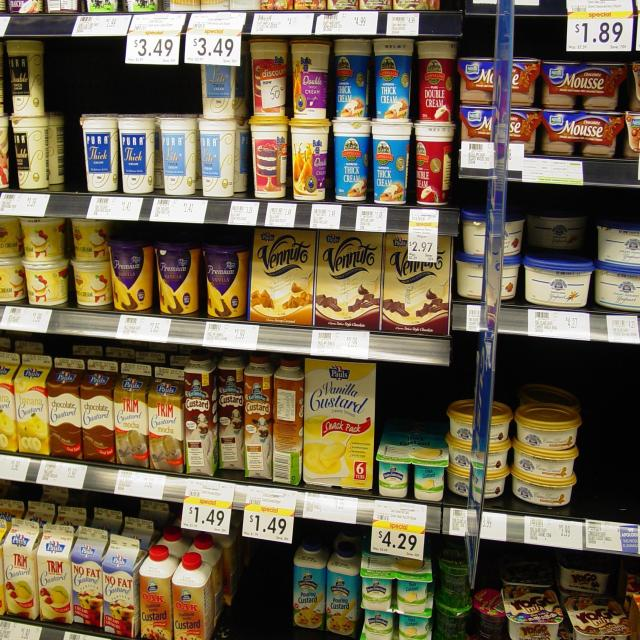empty_space: (585, 389, 640, 499), (240, 552, 283, 640)
